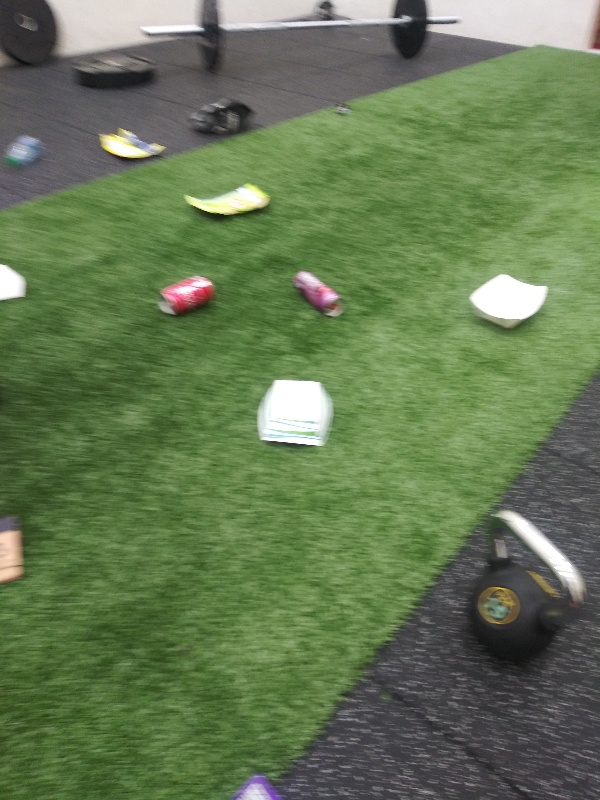bag: (180, 182, 277, 219), (94, 124, 169, 165), (223, 771, 288, 800)
bottle: (3, 129, 48, 173)
can: (152, 269, 218, 323), (289, 262, 343, 323)
plate: (253, 377, 339, 452), (465, 272, 553, 334), (1, 259, 30, 306)
